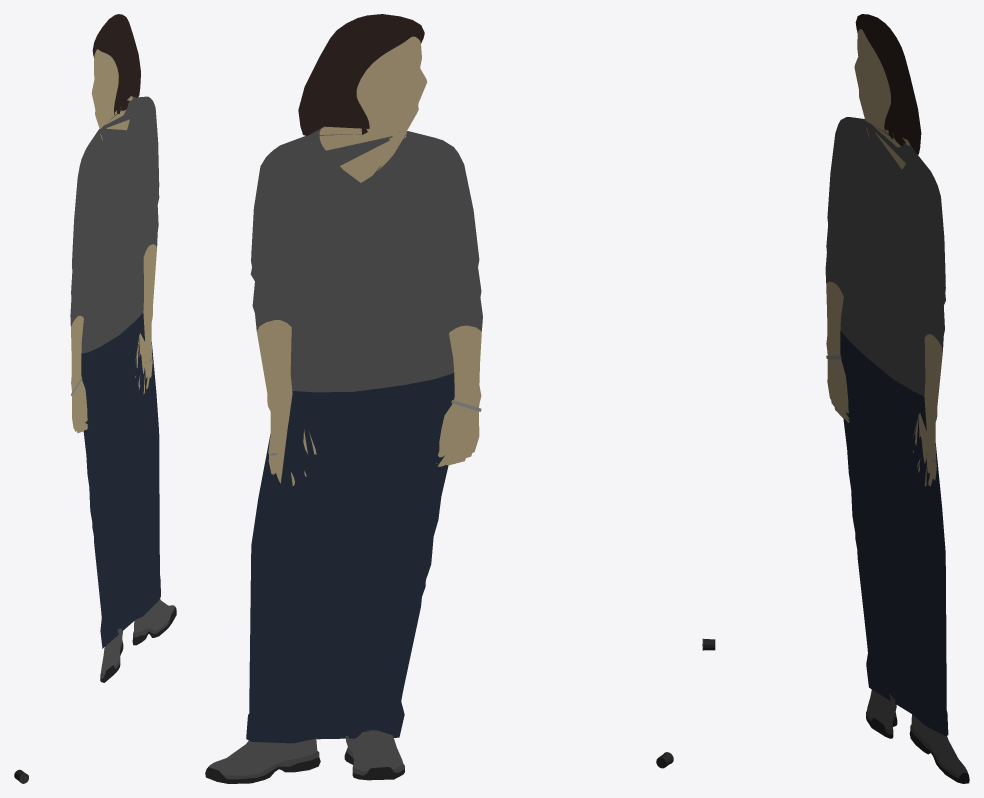
The model's file is TRASHCAN.obj.
The picture shows the model from 3 angles, left to right: view 1: azimuth 30°, elevation 25°; view 2: azimuth 150°, elevation 25°; view 3: azimuth 270°, elevation 25°; orthographic projection. The views are drawn at different scales.
Parts seen in each view (by area): view 1: Mesh1 Susan1 Model; view 2: Mesh1 Susan1 Model; view 3: Mesh1 Susan1 Model.
Boxes of the visible parts, <box> form: Mesh1 Susan1 Model: <box>70,14,176,682</box>; Mesh1 Susan1 Model: <box>205,14,482,783</box>; Mesh1 Susan1 Model: <box>825,14,969,783</box>.
Size of the model in its own units: 29.62 by 67.1 by 22.59.
